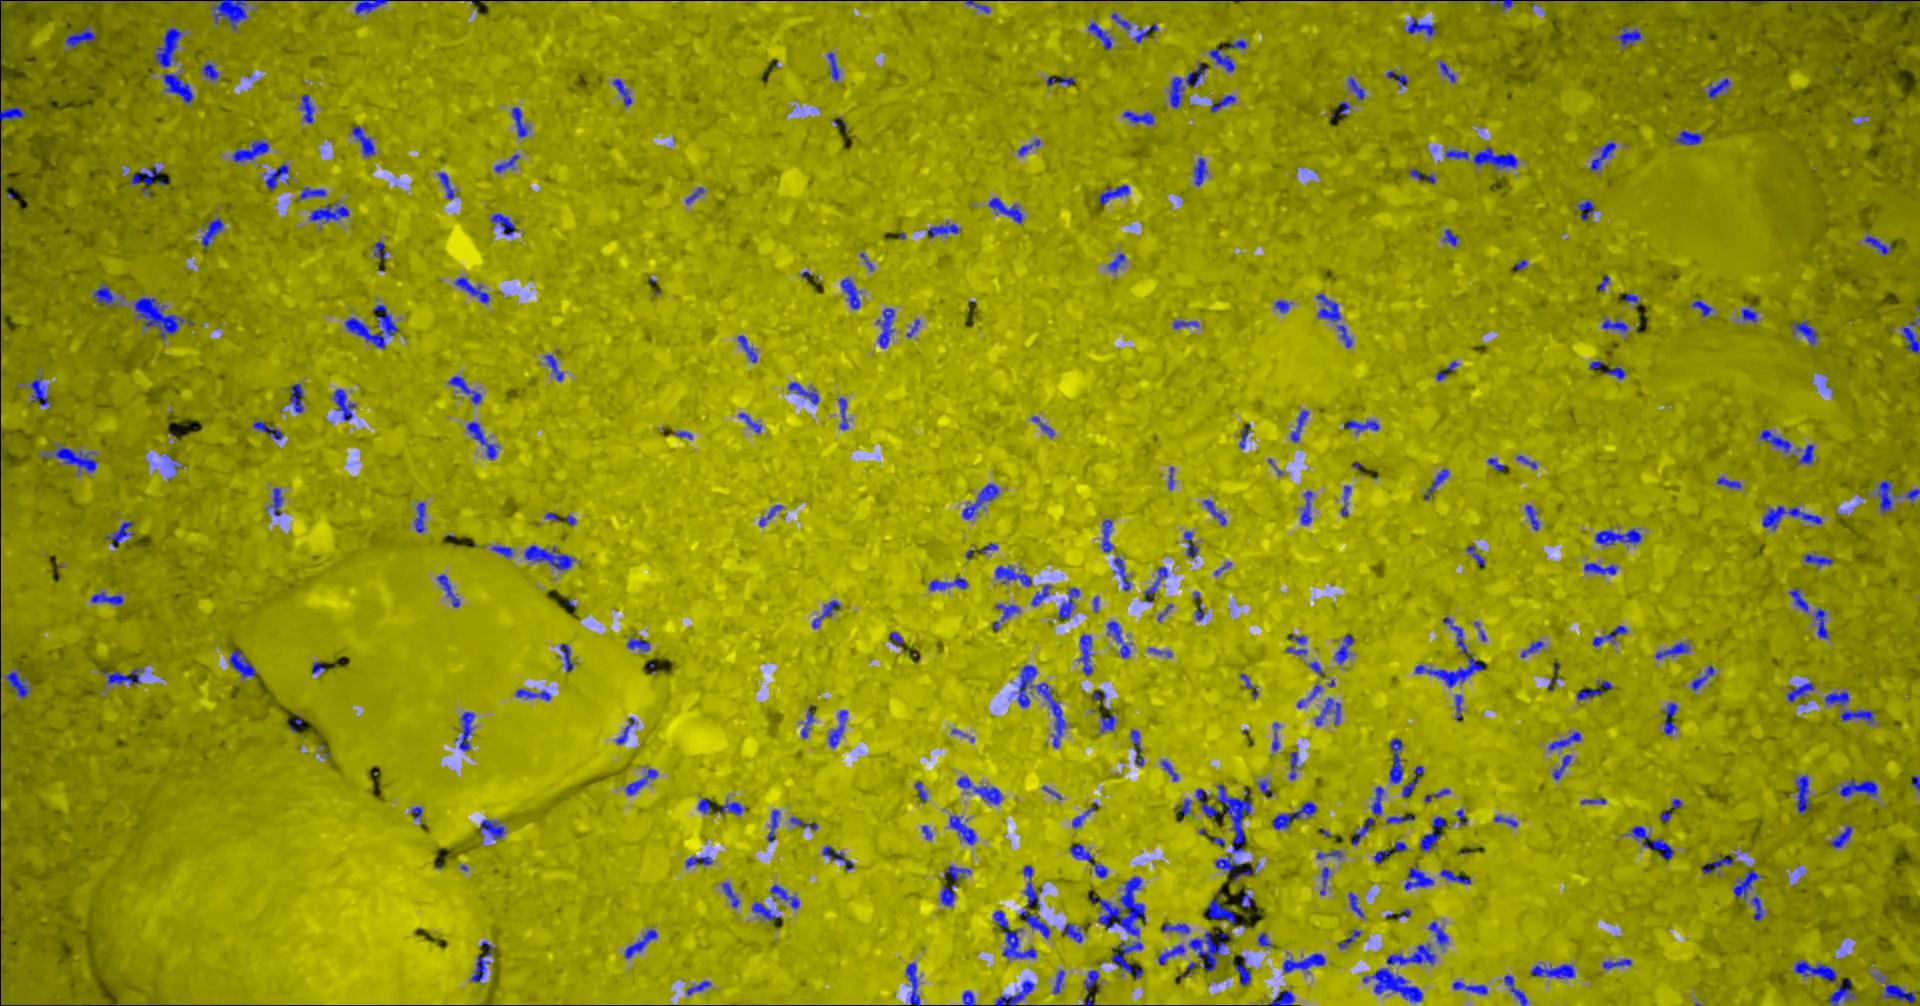ant: (1017, 664, 1065, 747), (133, 297, 192, 339), (344, 304, 397, 348), (1217, 784, 1251, 852), (1415, 655, 1483, 687), (992, 909, 1036, 958), (1316, 293, 1352, 347), (1168, 62, 1208, 107), (1444, 146, 1517, 169), (1189, 931, 1230, 970), (1625, 826, 1672, 860), (1823, 691, 1873, 723), (41, 445, 97, 473), (1763, 506, 1821, 530), (961, 483, 998, 520), (956, 776, 1002, 804), (524, 544, 574, 569), (1069, 843, 1107, 876), (1208, 39, 1246, 71), (466, 420, 498, 459), (1272, 801, 1316, 829), (940, 865, 970, 904), (154, 27, 182, 67), (211, 0, 248, 29), (130, 165, 161, 196), (448, 375, 481, 404), (623, 929, 657, 958), (455, 276, 489, 304), (1418, 815, 1445, 851), (1106, 620, 1131, 657), (469, 940, 491, 981), (994, 981, 1032, 1005), (987, 197, 1022, 222), (163, 72, 192, 103), (231, 138, 268, 163), (1443, 616, 1467, 653), (1022, 865, 1043, 908), (1732, 870, 1763, 898), (1018, 909, 1049, 937), (1794, 960, 1836, 981), (625, 768, 657, 795), (1144, 567, 1167, 602), (822, 845, 853, 870), (1283, 953, 1324, 972), (350, 124, 375, 158), (331, 387, 356, 420), (811, 600, 839, 627), (949, 815, 977, 843), (229, 648, 255, 677), (1594, 528, 1641, 545), (1423, 467, 1448, 499), (436, 574, 458, 607), (1373, 841, 1406, 864), (104, 521, 132, 547), (1208, 898, 1236, 925), (770, 884, 799, 909), (1592, 625, 1627, 647), (1759, 429, 1790, 452), (1057, 587, 1079, 619), (828, 709, 847, 747), (455, 711, 474, 749), (1401, 765, 1423, 796), (1883, 982, 1915, 1005), (309, 203, 349, 221), (994, 565, 1030, 586), (1590, 142, 1615, 170), (263, 163, 288, 191), (1314, 697, 1340, 725), (1070, 801, 1098, 827), (750, 901, 780, 925), (1503, 976, 1528, 1005), (876, 307, 894, 347), (65, 25, 95, 48), (201, 218, 223, 249), (787, 381, 818, 404), (1794, 774, 1812, 812), (1839, 779, 1877, 796), (1530, 963, 1575, 978), (1829, 978, 1854, 1005), (1087, 22, 1111, 50), (1195, 788, 1217, 818), (1790, 320, 1817, 344), (5, 671, 28, 699), (1548, 730, 1581, 749), (1098, 184, 1129, 205), (1077, 634, 1092, 674), (103, 668, 143, 683), (1655, 641, 1689, 659), (1351, 817, 1374, 843), (1403, 17, 1435, 36), (510, 105, 530, 137), (1404, 868, 1432, 889), (905, 962, 919, 1005), (1290, 409, 1308, 442), (1112, 556, 1130, 589), (1690, 666, 1714, 690), (0, 105, 25, 128), (29, 376, 48, 406), (251, 420, 282, 439), (1203, 499, 1225, 525), (1389, 737, 1402, 782), (612, 77, 632, 105), (1785, 681, 1813, 701), (926, 221, 960, 238), (841, 277, 858, 309), (1864, 235, 1893, 254), (928, 575, 968, 589), (490, 213, 516, 235), (93, 282, 114, 307), (1214, 852, 1241, 873), (1157, 944, 1183, 964), (615, 716, 634, 744), (1902, 320, 1919, 352), (1876, 480, 1892, 512), (1439, 868, 1470, 884), (758, 504, 782, 526), (1335, 634, 1352, 663), (1788, 587, 1808, 612), (479, 819, 504, 840), (1129, 729, 1143, 766), (737, 335, 756, 362), (543, 354, 563, 381), (437, 171, 455, 199), (1451, 981, 1487, 995), (1707, 77, 1730, 99), (1829, 826, 1851, 847), (1617, 25, 1641, 46), (1550, 754, 1571, 779), (494, 152, 519, 171), (1239, 673, 1258, 699), (1429, 920, 1448, 945), (716, 799, 745, 815), (354, 0, 389, 14), (738, 412, 761, 432), (1031, 417, 1054, 437), (1702, 857, 1732, 873), (90, 591, 123, 605), (1663, 702, 1677, 735), (800, 705, 814, 738), (1343, 419, 1379, 432), (721, 882, 739, 907), (1030, 584, 1050, 606), (1134, 23, 1157, 42), (1299, 490, 1312, 525), (1337, 929, 1360, 948), (994, 603, 1018, 621), (1123, 111, 1153, 124), (1192, 158, 1208, 185), (1815, 607, 1829, 638), (1234, 956, 1250, 984), (1210, 95, 1236, 112), (1583, 561, 1617, 574), (1062, 922, 1082, 942), (297, 185, 326, 199), (290, 384, 303, 413), (1803, 553, 1832, 567), (766, 809, 778, 841), (1520, 640, 1544, 657), (516, 688, 550, 700), (1674, 130, 1702, 144), (268, 486, 282, 514), (789, 815, 817, 829), (1465, 545, 1484, 565), (1285, 635, 1305, 654), (1347, 892, 1363, 917), (1269, 989, 1294, 1005), (1347, 77, 1365, 99), (1017, 138, 1039, 156), (1161, 760, 1178, 781), (1439, 60, 1455, 83), (1101, 520, 1112, 553), (1183, 531, 1197, 558), (559, 643, 573, 669), (300, 94, 312, 123), (1370, 786, 1383, 815), (837, 398, 848, 429), (414, 500, 425, 532), (827, 52, 839, 80), (1601, 318, 1627, 332), (1423, 788, 1449, 801), (1161, 921, 1189, 934), (626, 636, 649, 652), (964, 0, 990, 13), (1111, 11, 1130, 29), (686, 981, 710, 995), (1691, 300, 1712, 316), (1525, 504, 1538, 530), (684, 856, 712, 868), (1603, 958, 1630, 969), (201, 61, 218, 79), (1107, 253, 1125, 271), (684, 187, 703, 203), (1798, 445, 1815, 464), (1577, 199, 1592, 220), (1340, 485, 1350, 516), (1750, 895, 1763, 920), (1051, 969, 1064, 993), (490, 544, 512, 558), (1319, 866, 1330, 895), (1603, 366, 1625, 379), (1083, 970, 1098, 989), (1516, 455, 1537, 469), (1238, 424, 1250, 448), (1716, 476, 1740, 488), (1576, 688, 1600, 700), (1493, 814, 1517, 826), (1098, 714, 1115, 730), (1443, 227, 1457, 246), (914, 781, 927, 801), (1274, 298, 1291, 312), (287, 714, 301, 732), (1288, 751, 1297, 779), (1258, 779, 1272, 796), (1316, 850, 1342, 859), (1823, 0, 1915, 3), (1741, 307, 1756, 323), (1308, 661, 1323, 676), (1491, 0, 1516, 9), (373, 241, 386, 259), (1486, 457, 1503, 470), (1454, 694, 1462, 721), (1271, 721, 1279, 749), (1257, 932, 1272, 946), (1385, 815, 1412, 823), (889, 631, 903, 645), (1172, 320, 1197, 328), (1903, 488, 1919, 500), (1239, 890, 1251, 907), (1617, 293, 1637, 302), (697, 798, 709, 813), (963, 989, 974, 1005), (1180, 799, 1190, 815), (1580, 796, 1605, 803), (1091, 690, 1105, 700)
